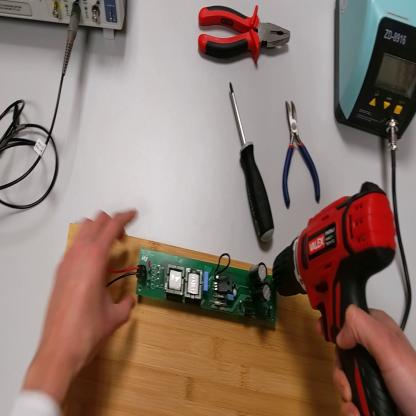electric screwdriver: (274, 180, 403, 414)
hand: (43, 207, 139, 376), (335, 304, 416, 415)
high voltage board: (112, 250, 277, 326)
oscilloscope: (2, 1, 128, 41)
oscilloscope probe tip: (1, 125, 27, 154)
pliers: (195, 3, 294, 68), (282, 100, 322, 211)
screwdriver-: (230, 83, 276, 247)
welder station: (334, 1, 416, 142)
working area: (61, 224, 340, 416)
